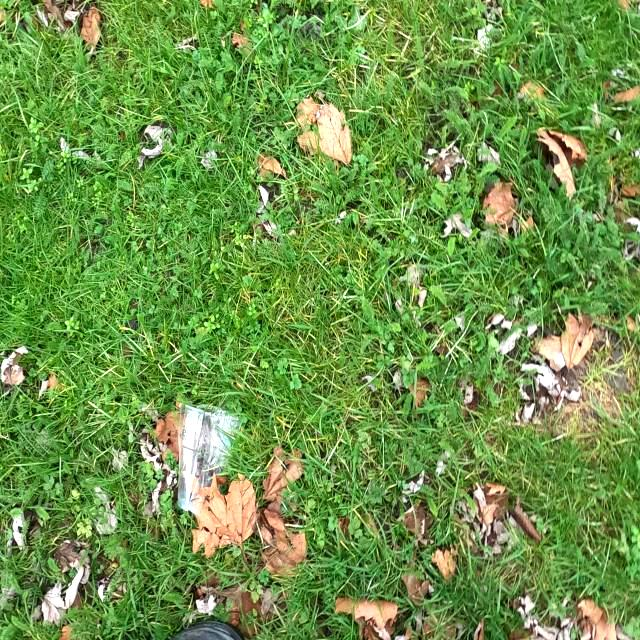Coffee Cup: (172, 398, 240, 516)
